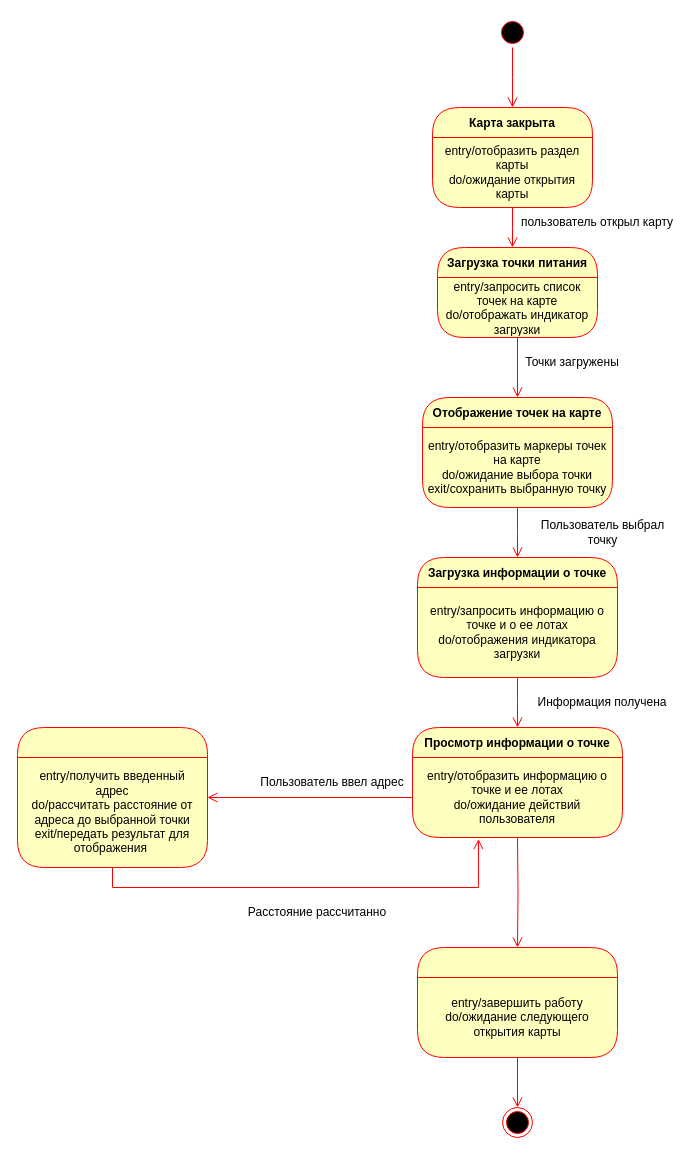
Some shapes in this 695 by 1155 pixel diagram are drawn without their labels. Each missing label, with the box of its shape:
Завершение работы с картой: (416, 946, 618, 1058)
Расчет расстояния до точки: (16, 726, 208, 868)
